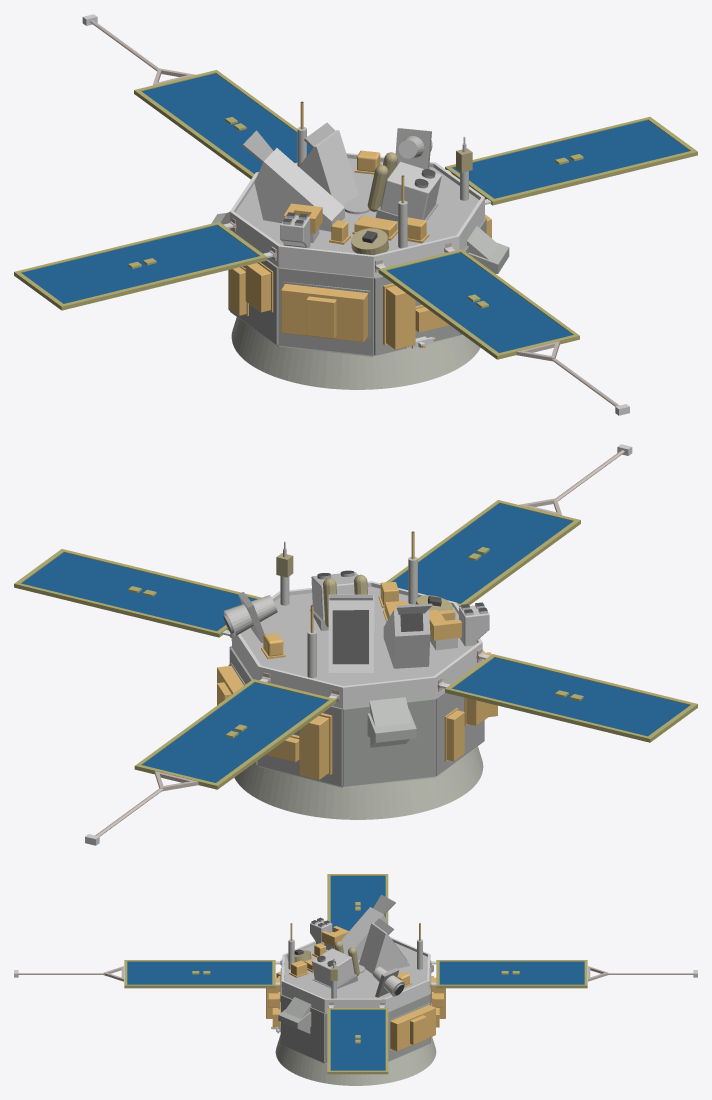
Rendered from space-advanced-composition-explorer.glb.
The picture shows the model from 3 angles, top to bottom: view 1: azimuth 30°, elevation 25°; view 2: azimuth 150°, elevation 25°; view 3: azimuth 270°, elevation 25°; orthographic projection. The views are drawn at different scales.
Visible parts, largest first — view 1: Layer_0; view 2: Layer_0; view 3: Layer_0.
Part boxes in pixels (bbox=[...]): Layer_0: bbox=[14, 14, 697, 415]; Layer_0: bbox=[14, 444, 697, 845]; Layer_0: bbox=[14, 874, 697, 1085].
Bounding box in the file's own units: 922 × 278 × 1345.
Materials: 2 (2 with a texture image).
